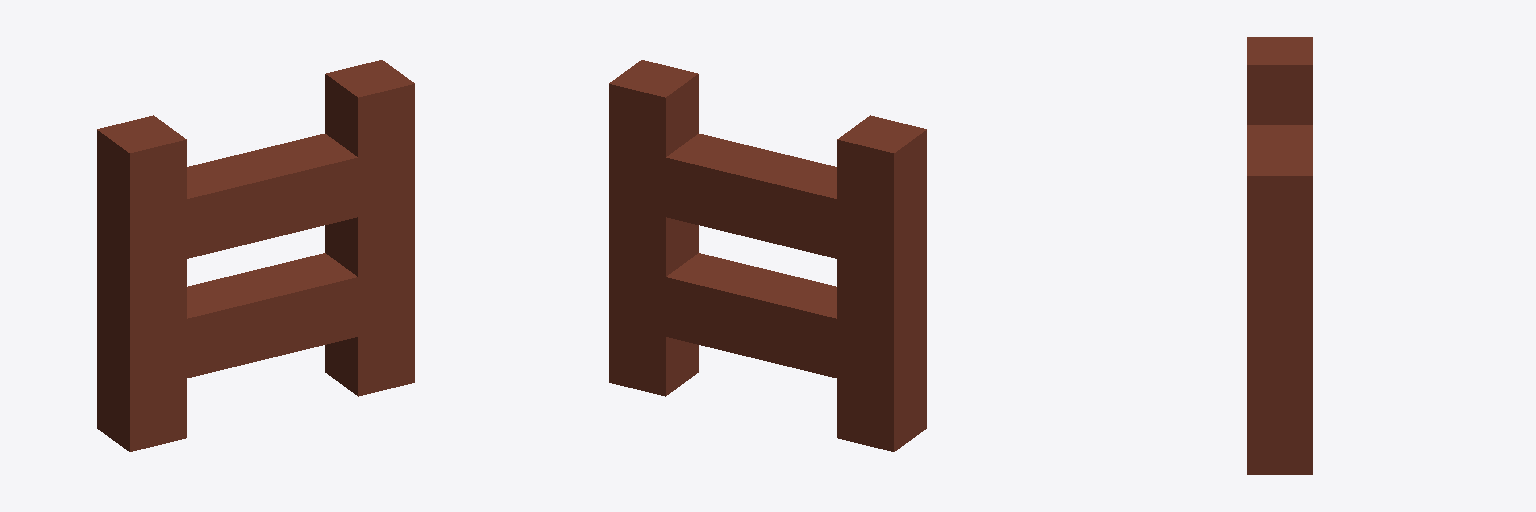
3 renders of one model, left to right at view 1: azimuth 30°, elevation 25°; view 2: azimuth 150°, elevation 25°; view 3: azimuth 270°, elevation 25°, orthographic.
Visible parts, largest first — view 1: Element #1, Element #3, Element #2, Element #6, Element #4, Element #5; view 2: Element #1, Element #3, Element #2, Element #6, Element #4, Element #5; view 3: Element #1, Element #6, Element #3.
Part boxes in pixels (bbox=[...]): Element #1: bbox=[325, 60, 414, 396]; Element #3: bbox=[97, 134, 357, 272]; Element #2: bbox=[97, 253, 357, 391]; Element #6: bbox=[97, 115, 186, 212]; Element #4: bbox=[97, 369, 186, 451]; Element #5: bbox=[97, 249, 186, 332]; Element #1: bbox=[609, 60, 698, 396]; Element #3: bbox=[666, 134, 926, 272]; Element #2: bbox=[666, 253, 926, 391]; Element #6: bbox=[837, 115, 926, 212]; Element #4: bbox=[837, 369, 926, 451]; Element #5: bbox=[837, 249, 926, 332]; Element #1: bbox=[1247, 148, 1312, 474]; Element #6: bbox=[1247, 37, 1312, 124]; Element #3: bbox=[1247, 125, 1312, 147].
Size of the model in its own units: 4 by 4 by 0.8.
1 materials, 1 textured.